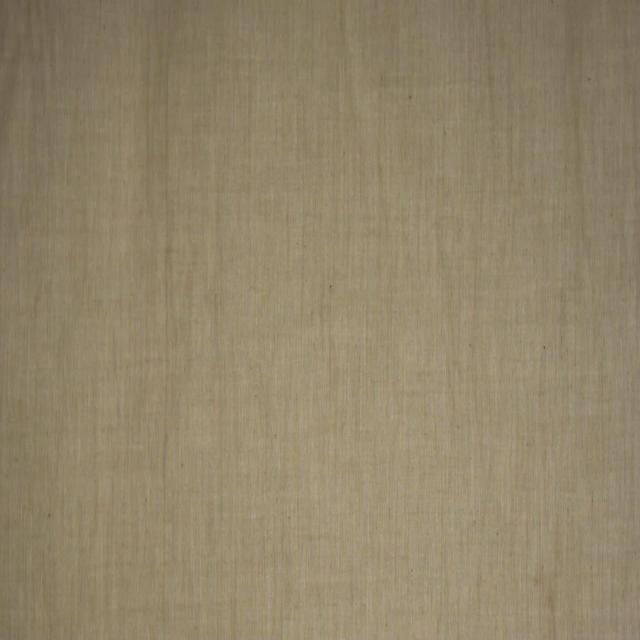dirty: (546, 587, 554, 605), (534, 579, 540, 588)
